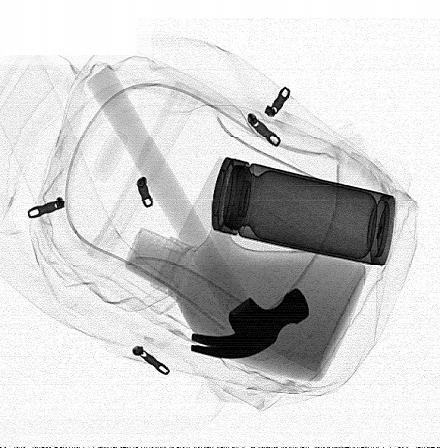Hammer: (85, 64, 310, 359)
